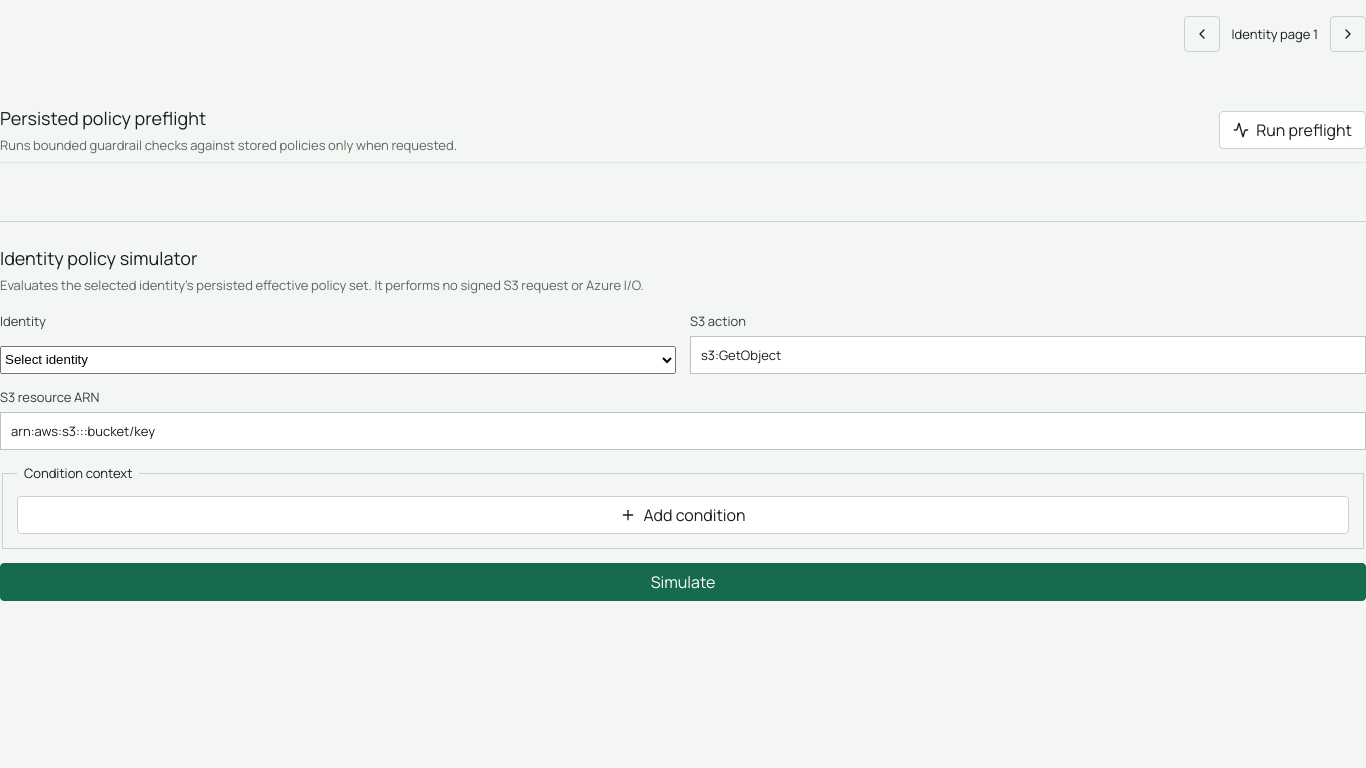
Test: PolicyDiagnostics › retries the failed request instead of the previous successful request
The image size is (1366, 768).
Select "SIMULATOR_KEY" in the dropdown labelled "Identity" at (338,360), box [0,346,676,374]
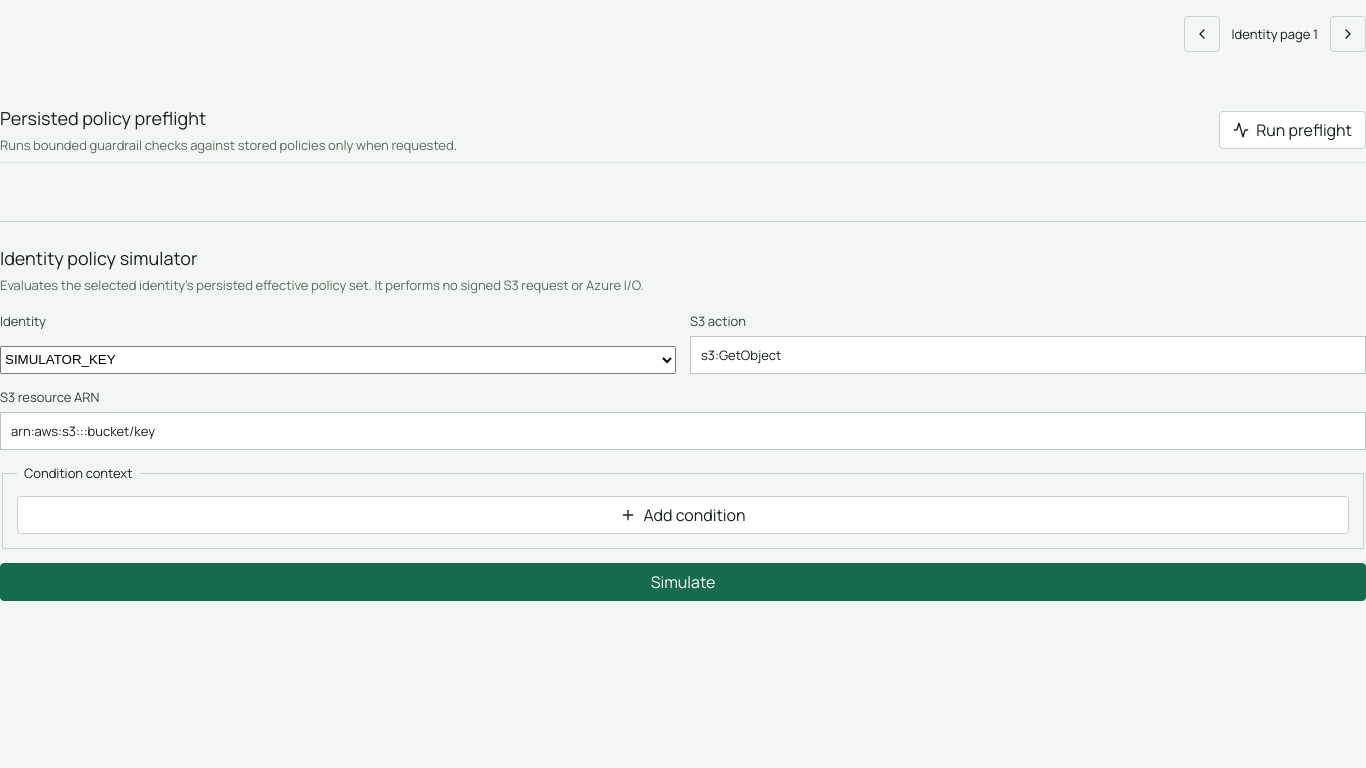
Submit the form "Simulate", box [0,312,1365,601]
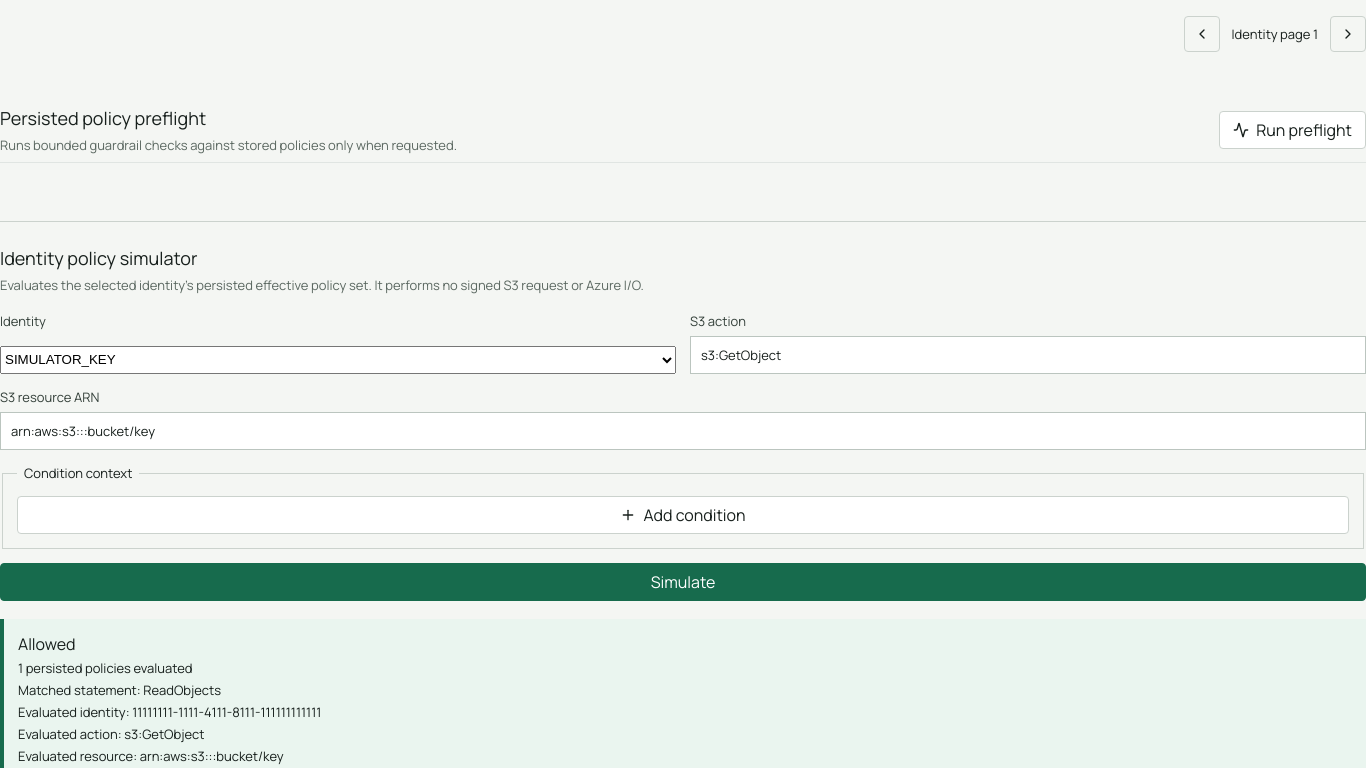
Now the text "Allowed" is shown, box [18,633,76,655]
Replace the text in the field labelled "S3 action" with "s3:DeleteObject" at (1028,355), box [690,336,1365,374]
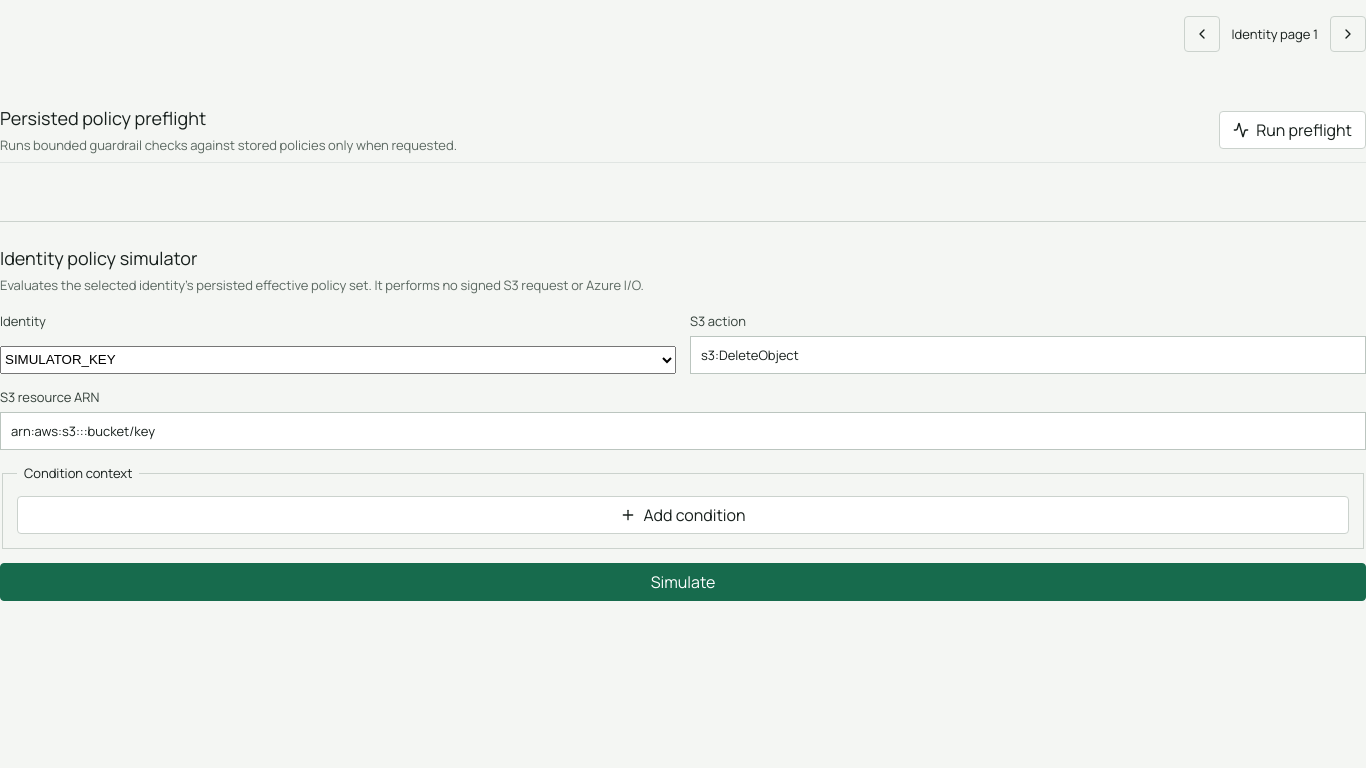
Submit the form "Simulate", box [0,312,1365,601]
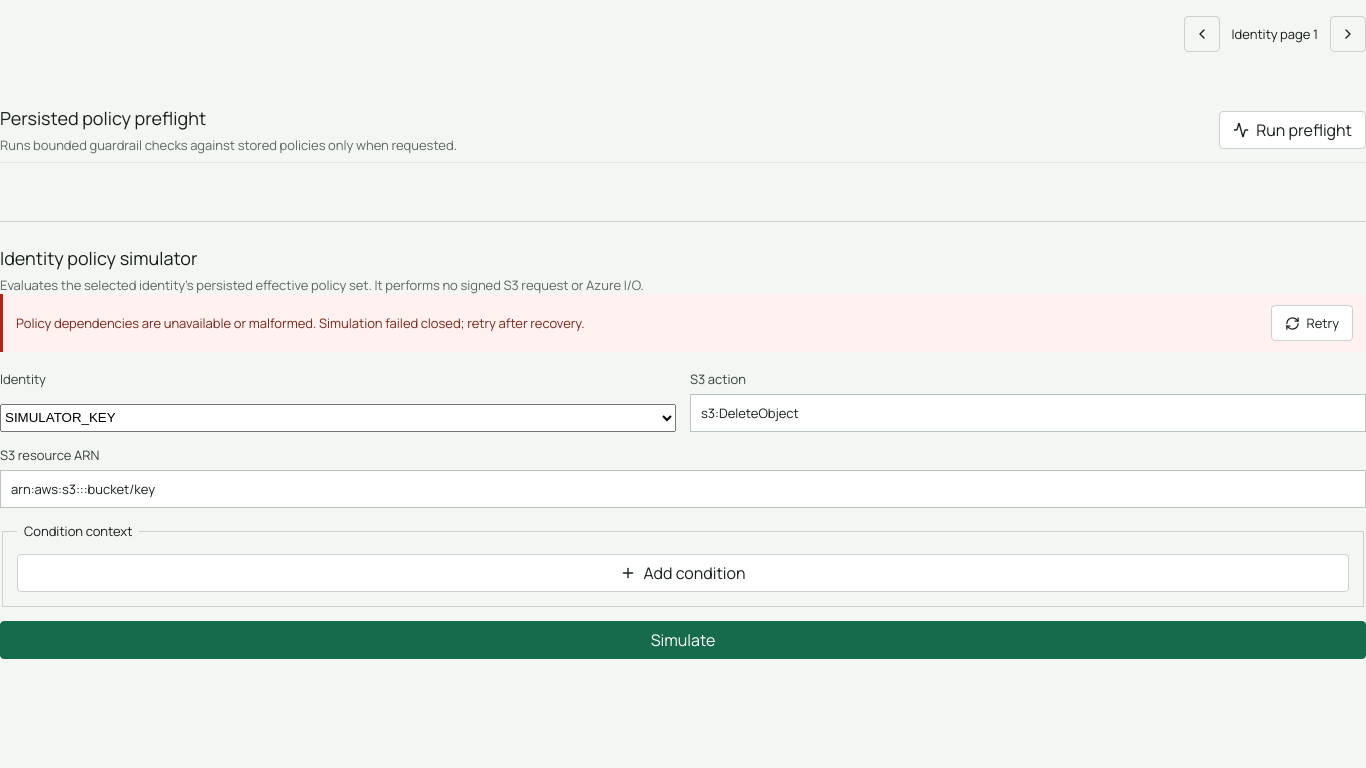
Click the button "Retry".
click(1312, 323)  # box [1270,305,1353,341]
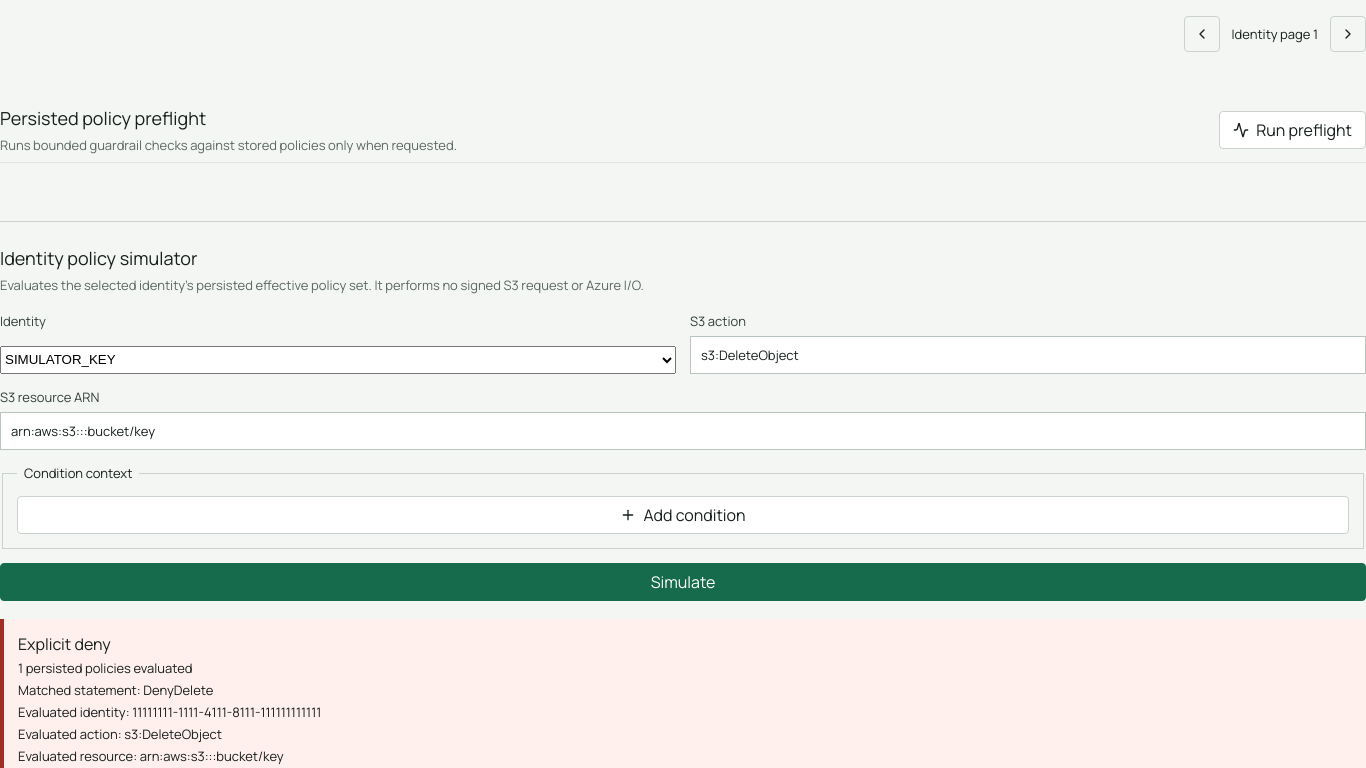
Now the text "Explicit deny" is shown, box [18,633,111,655]
